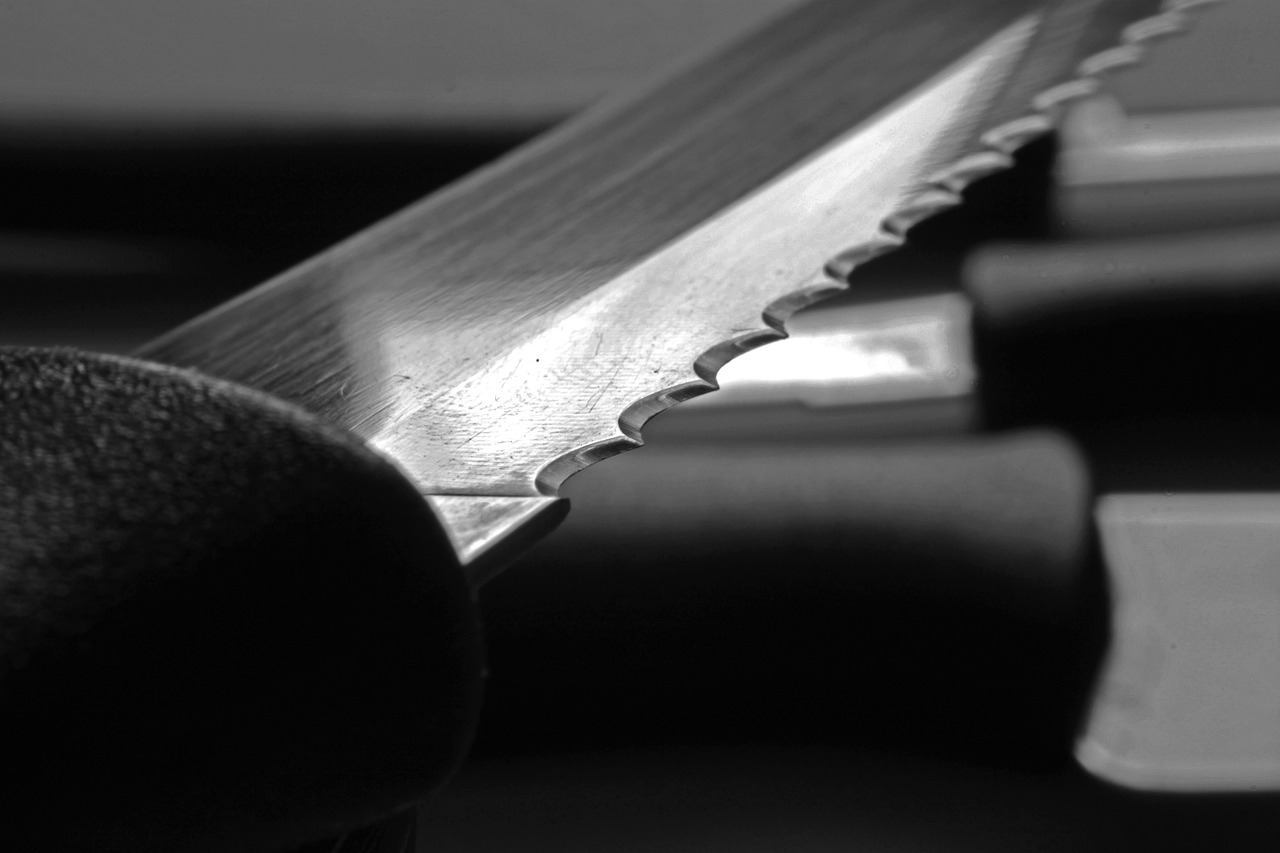knife: (114, 0, 1249, 577)
